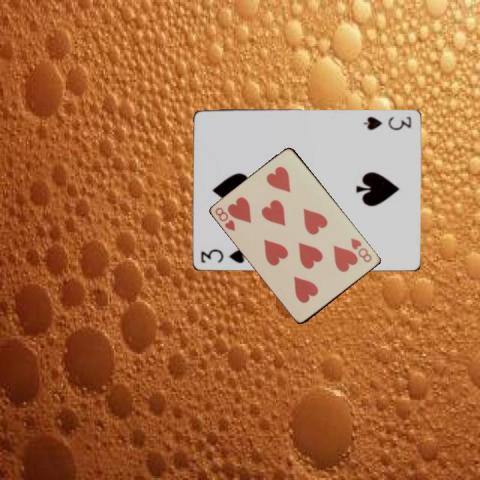3s: (198, 245, 249, 265), (361, 114, 414, 132)
8h: (348, 235, 373, 264), (212, 204, 237, 233)
